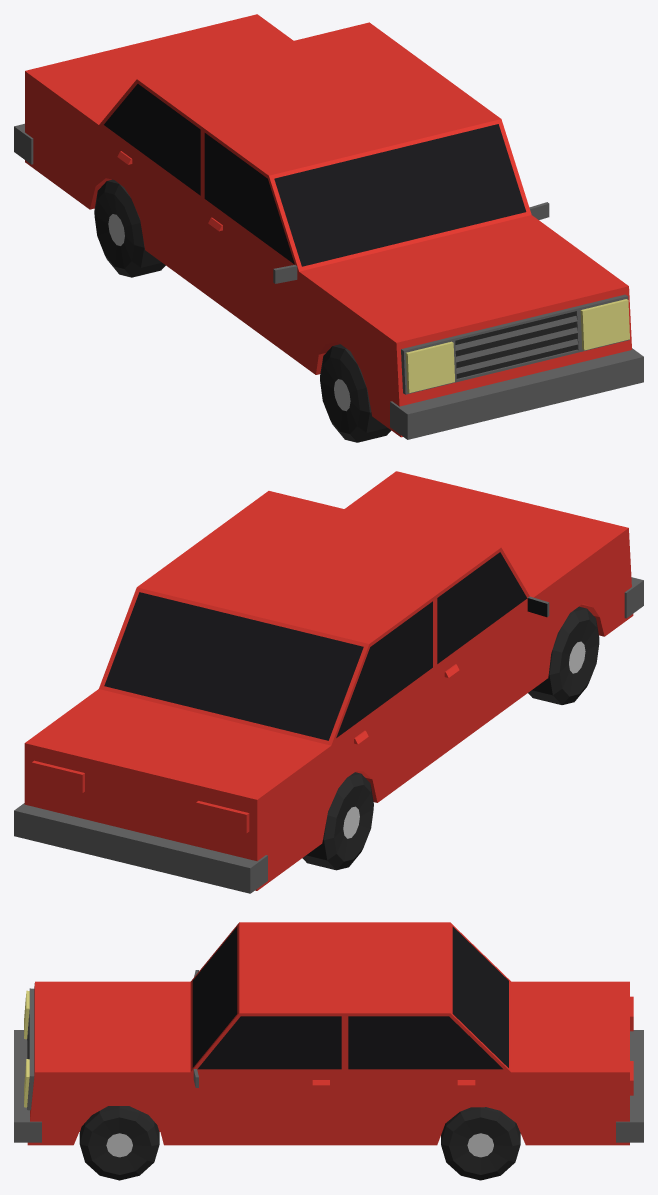
The model's file is Car_02.fbx.
The picture shows the model from 3 angles, top to bottom: view 1: azimuth 30°, elevation 25°; view 2: azimuth 150°, elevation 25°; view 3: azimuth 270°, elevation 25°; orthographic projection. The views are drawn at different scales.
Visible parts, largest first — view 1: Car_02; view 2: Car_02; view 3: Car_02.
Boxes of the visible parts, x1,y1,x2,y2 form: Car_02: [14, 14, 643, 442]; Car_02: [14, 471, 643, 893]; Car_02: [14, 922, 643, 1180].
Size of the model in its own units: 2.58 by 1.88 by 6.41.
